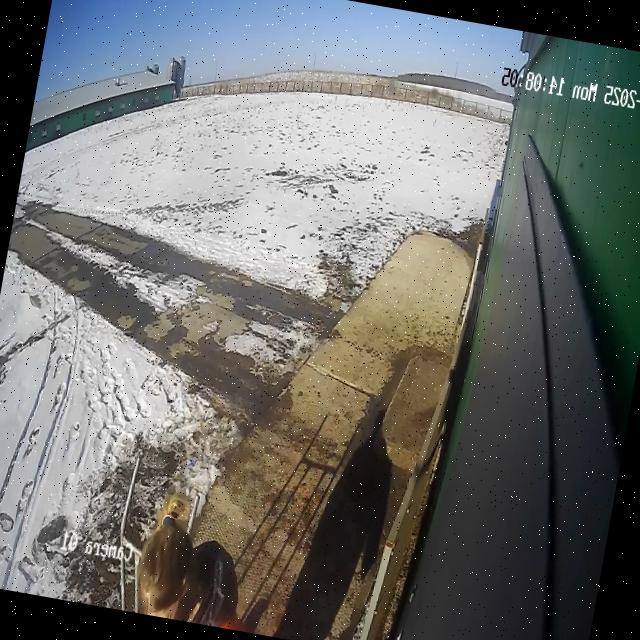Red uniform: (137, 496, 249, 632)
